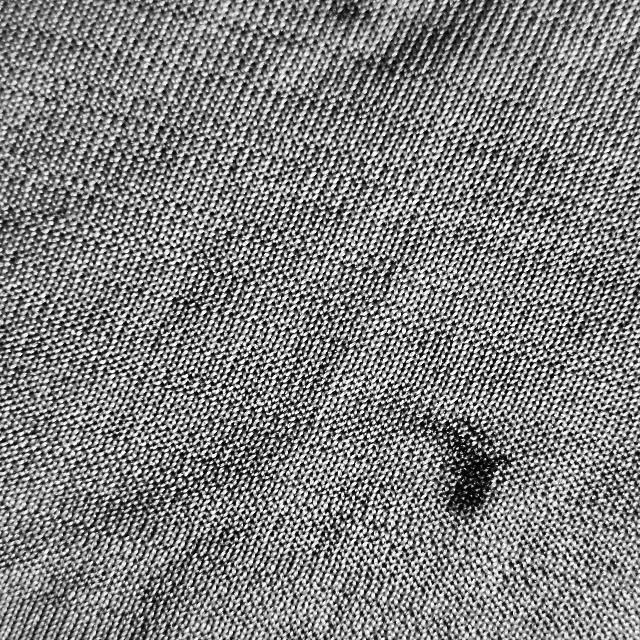Color_defect: (418, 408, 514, 529)
